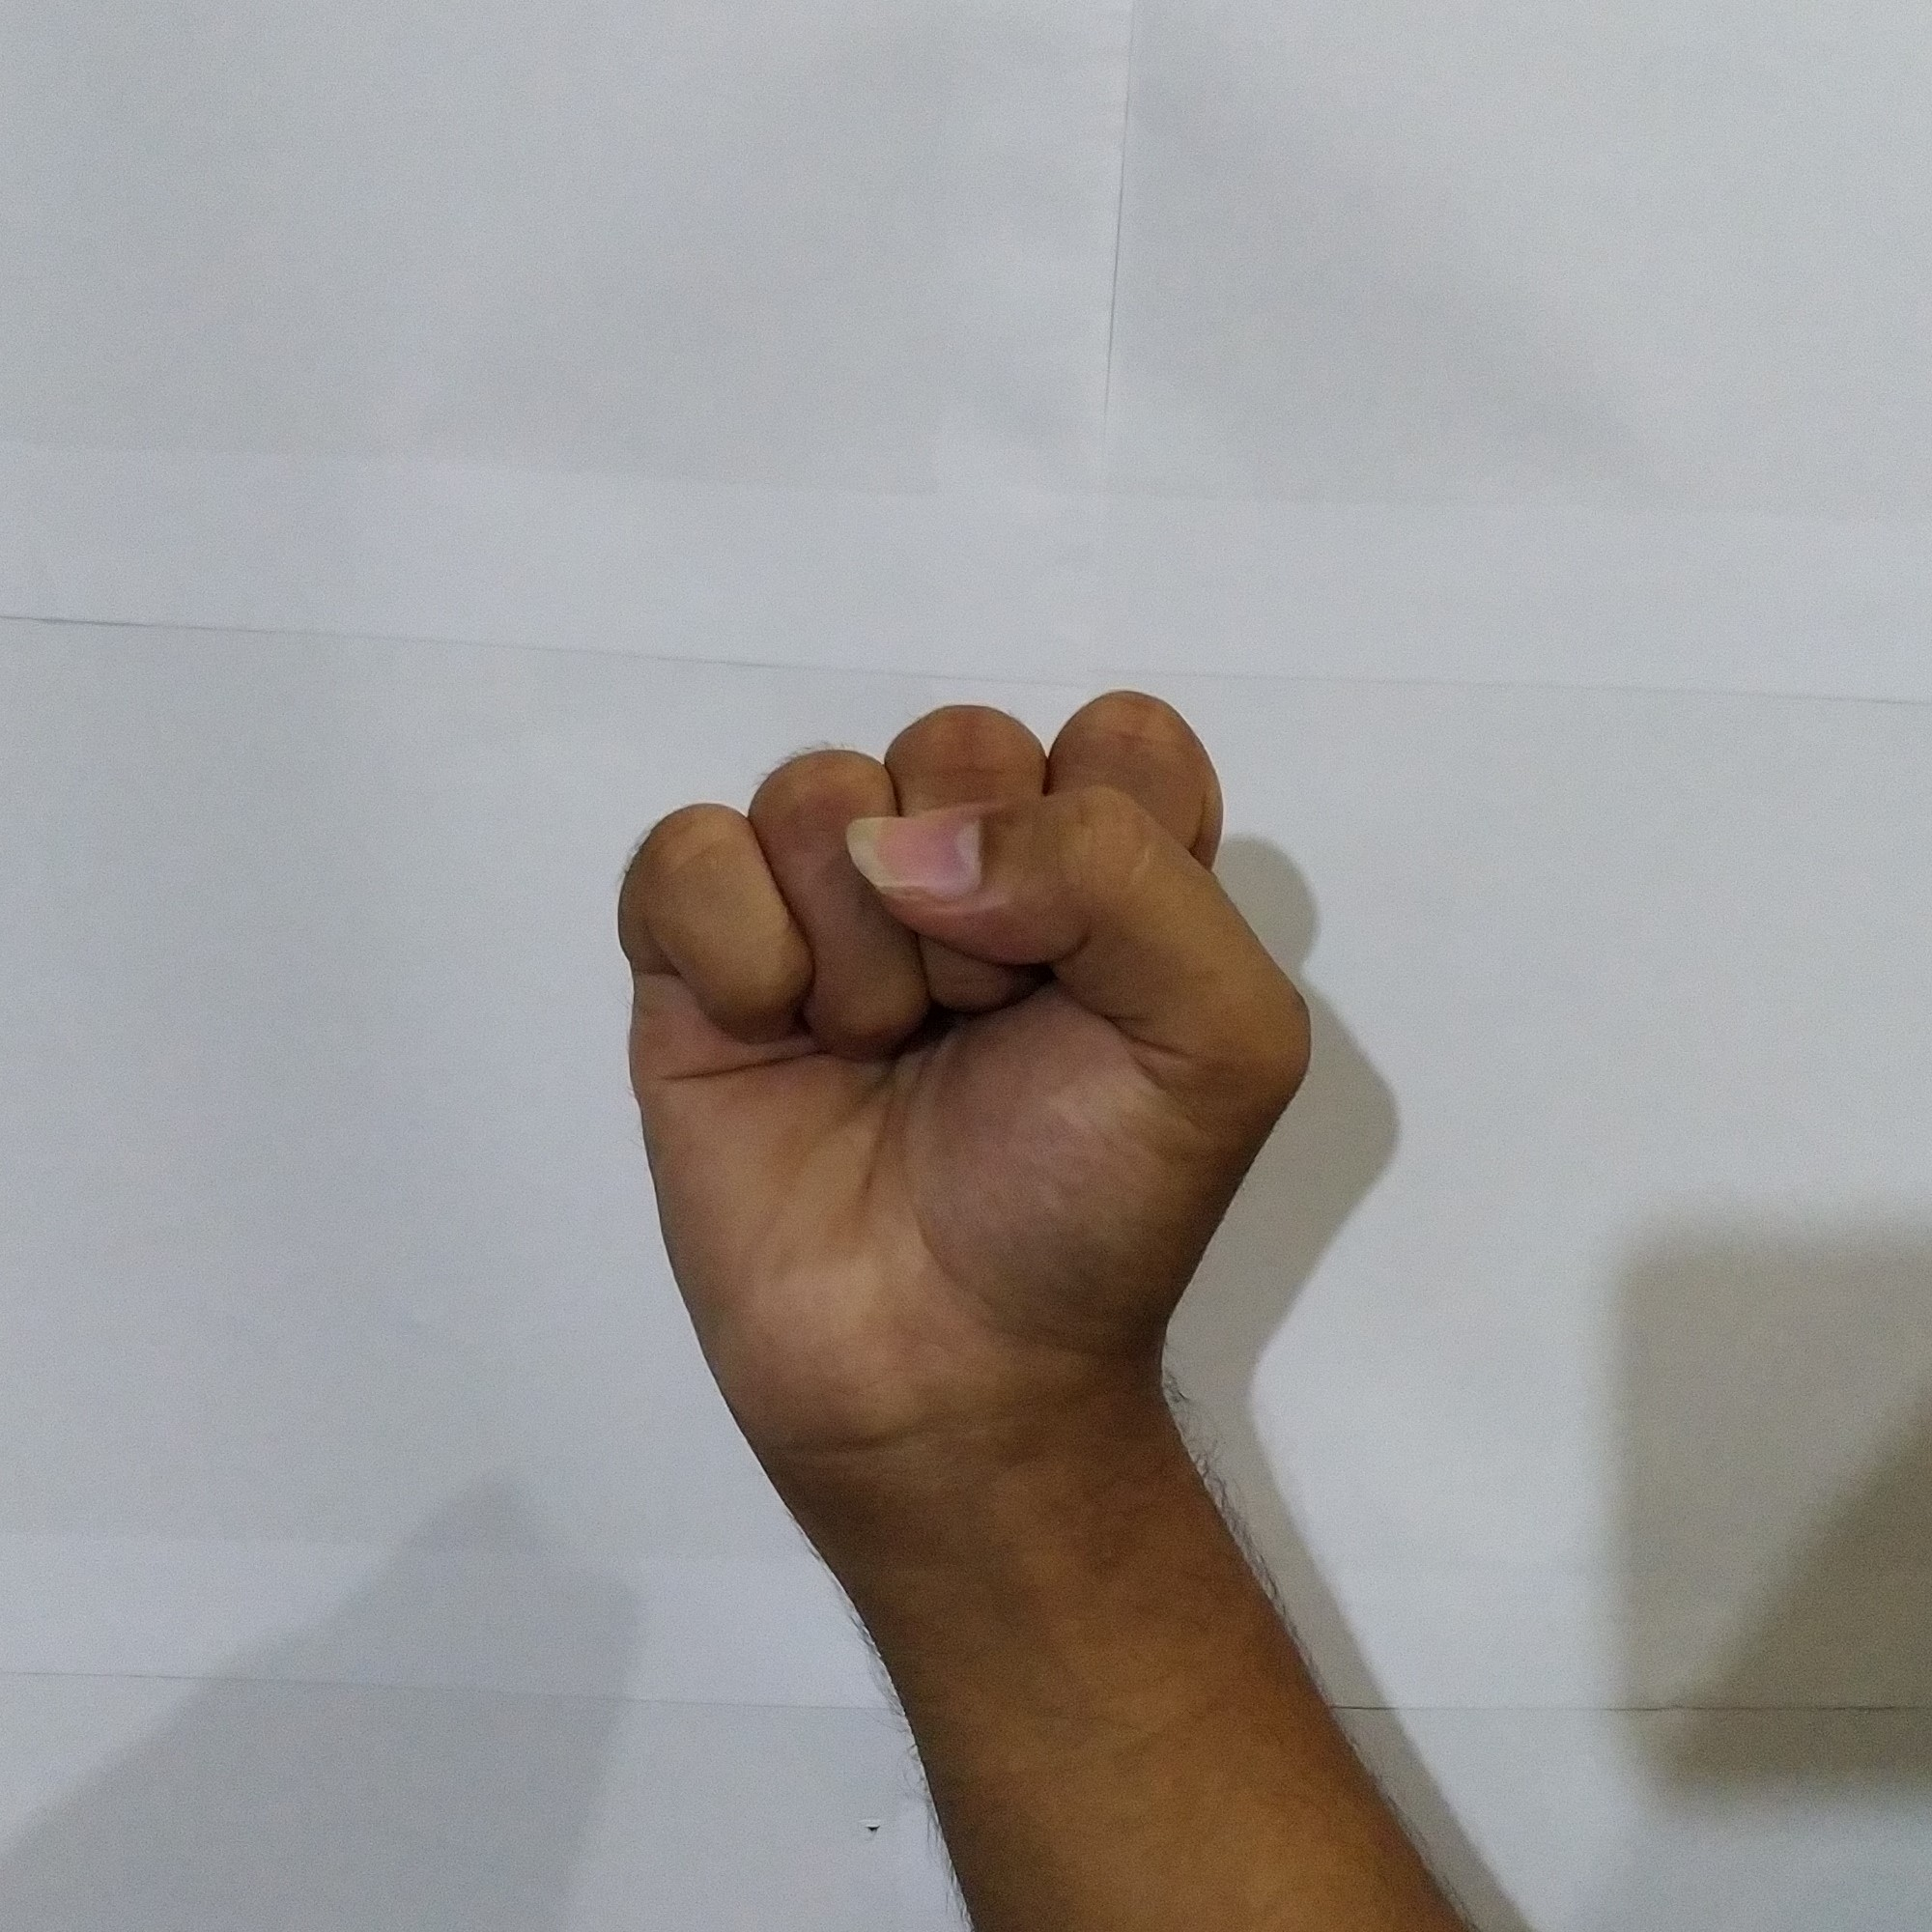S: (580, 669, 1338, 1401)
